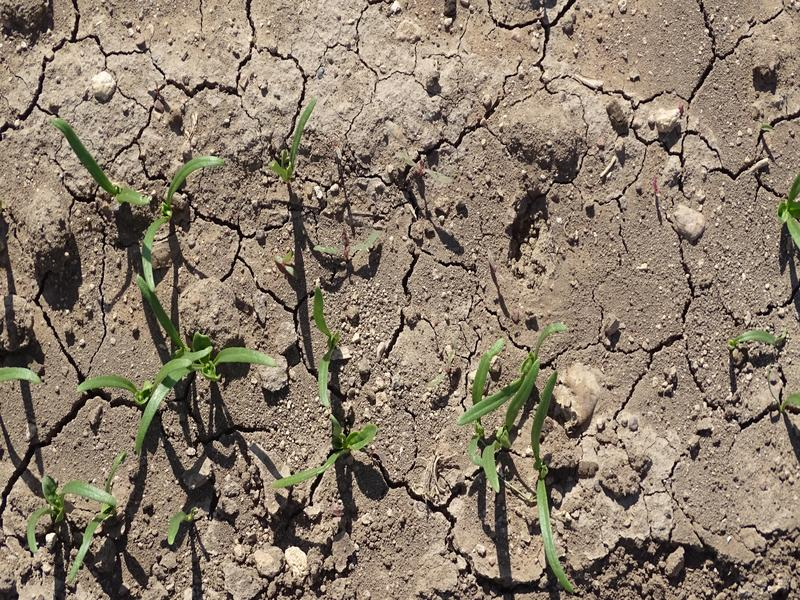Espinaca: (95, 277, 270, 444), (472, 346, 580, 590), (131, 151, 223, 284), (21, 455, 126, 567), (52, 118, 152, 209), (277, 424, 375, 497), (307, 291, 343, 411), (272, 99, 311, 181)
